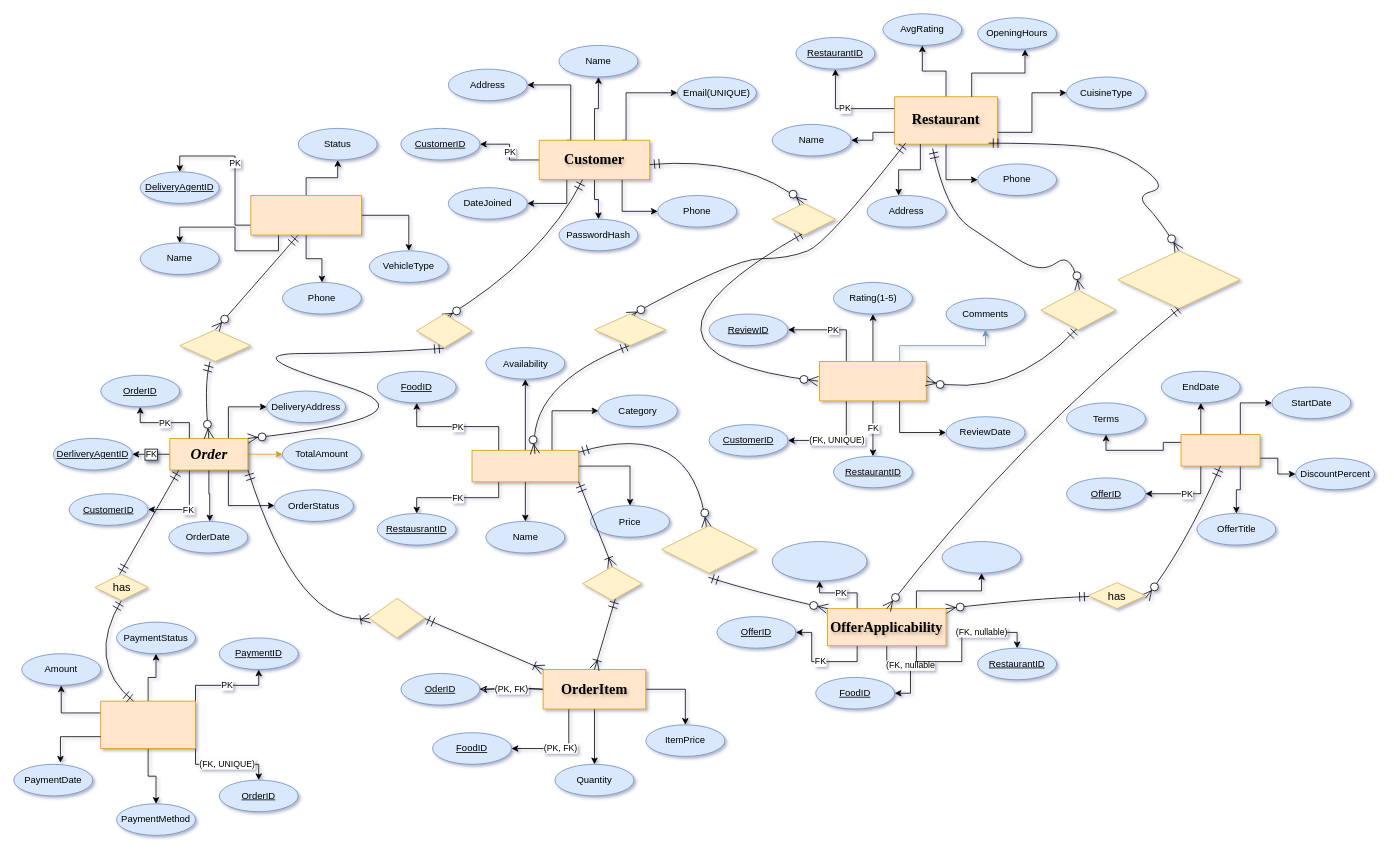
Some shapes in this 1394 by 854 pixel diagram are drawn without their labels. The centre of each missing label's shape, as x and y in pixels:
"appears_in" belongs at (612,583).
"contains" belongs at (397,618).
"delivers" belongs at (215,345).
"DeliveryAgent" belongs at (305,215).
"eligible_item" belongs at (708,549).
"eligible_restaurant" belongs at (1178,279).
"FoodItem" belongs at (525,466).
"Offer" belongs at (1220,450).
"OfferApplicabilityID" belongs at (819,561).
"offers" belongs at (630,329).
"Payment" belongs at (148,724).
"places" belongs at (444,330).
"receives" belongs at (1078,310).
"Review" belongs at (872,381).
"Scope" belongs at (981,557).
"writes" belongs at (803,219).
